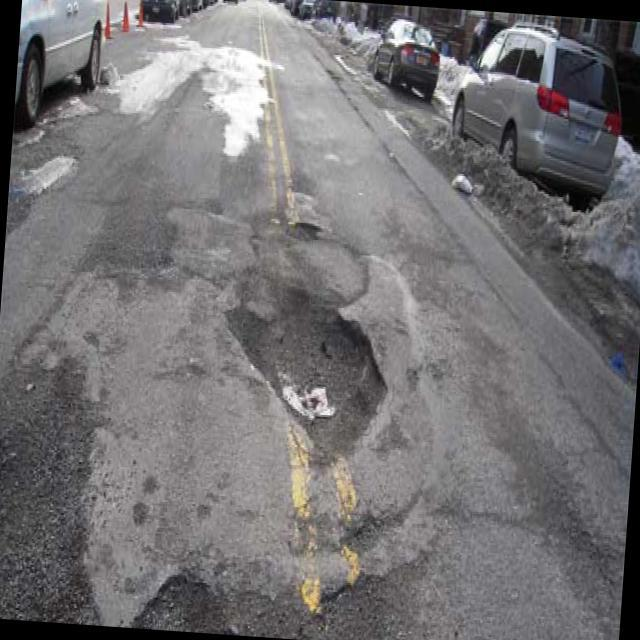Pothole: (254, 274, 390, 462), (4, 376, 98, 550), (139, 554, 212, 632), (290, 208, 320, 240)
